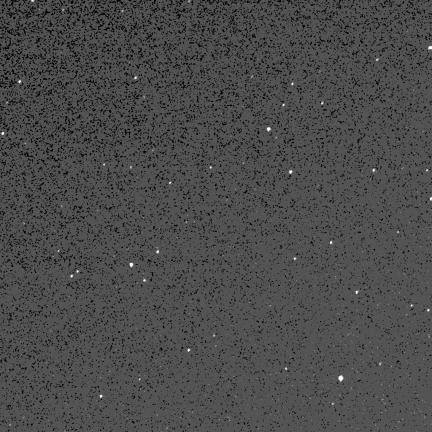blob: (338, 376, 343, 381), (267, 127, 272, 132), (321, 102, 324, 106), (2, 132, 5, 136), (76, 270, 79, 274), (157, 250, 160, 254), (19, 80, 22, 84), (130, 263, 133, 267), (379, 362, 382, 366), (294, 257, 297, 261), (135, 76, 138, 80), (330, 241, 333, 245), (285, 367, 288, 371), (210, 166, 213, 169), (169, 182, 172, 185), (130, 166, 133, 169), (411, 305, 414, 308), (376, 59, 379, 62), (57, 250, 60, 253), (103, 164, 106, 167), (289, 171, 292, 174), (427, 309, 430, 312), (397, 231, 400, 234), (188, 349, 191, 352), (144, 279, 147, 282), (283, 103, 285, 107), (373, 169, 375, 172), (71, 275, 73, 278), (292, 83, 294, 86), (430, 198, 432, 201), (100, 395, 102, 398), (356, 291, 358, 294)
